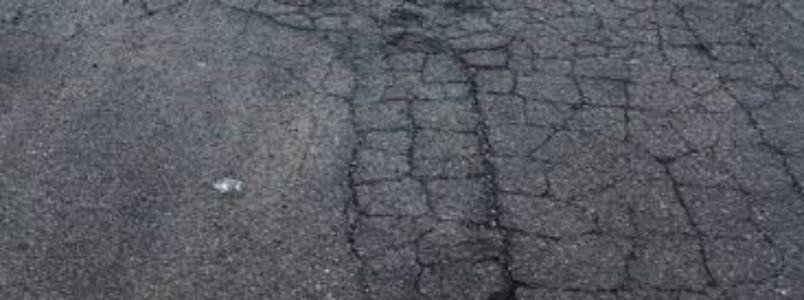alligator-crack: (343, 2, 804, 300)
